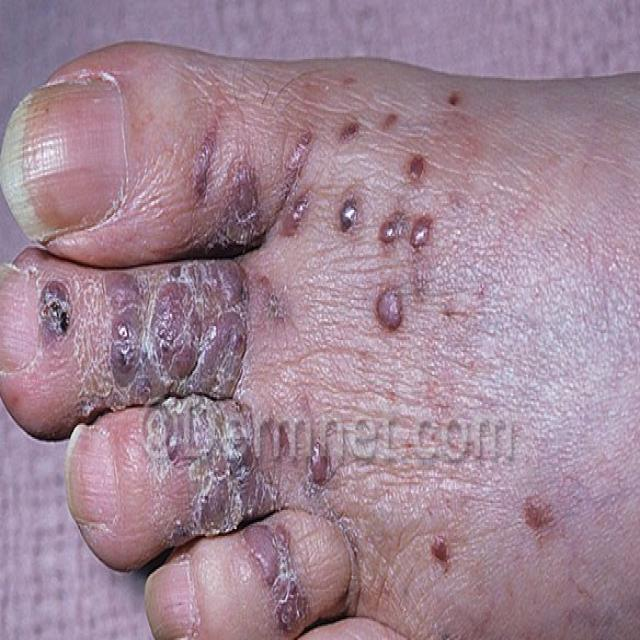Vascular Tumors: (183, 115, 481, 245), (33, 254, 251, 375), (134, 395, 308, 518), (404, 477, 572, 581), (230, 531, 322, 631), (369, 271, 419, 343)
